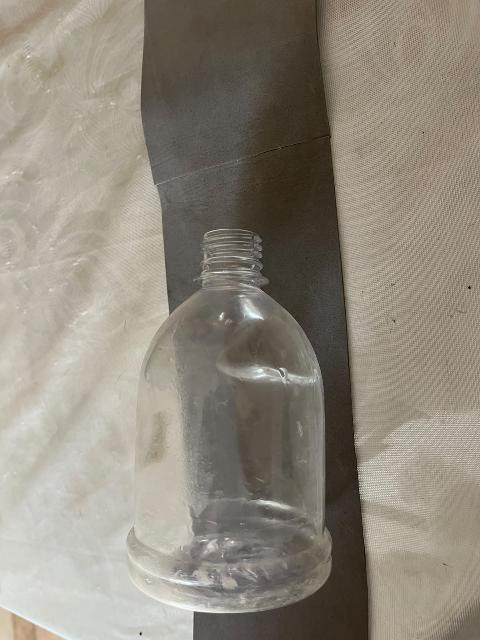PET: (79, 223, 425, 631)
